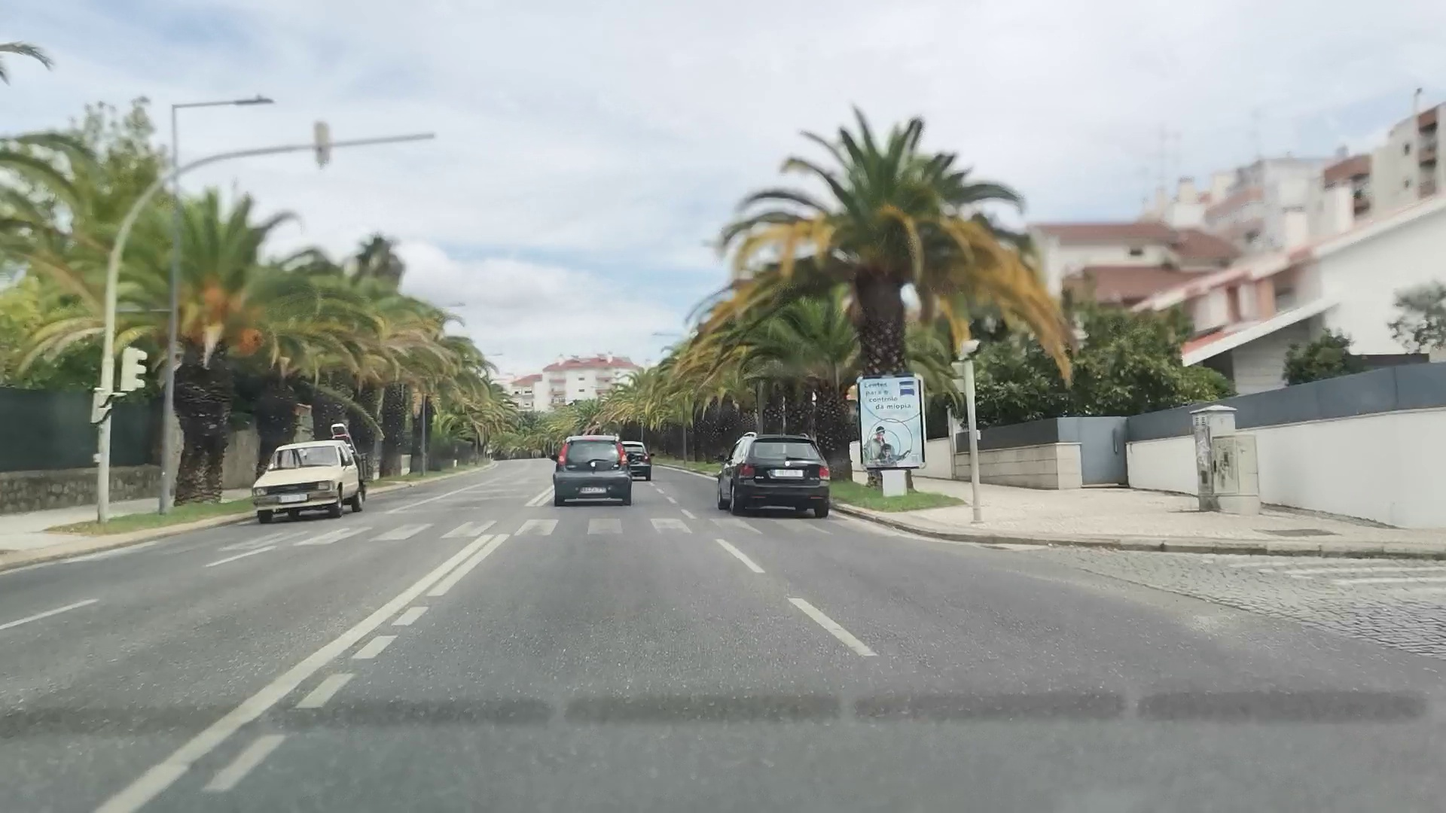Stairs: (70, 512, 875, 561)
